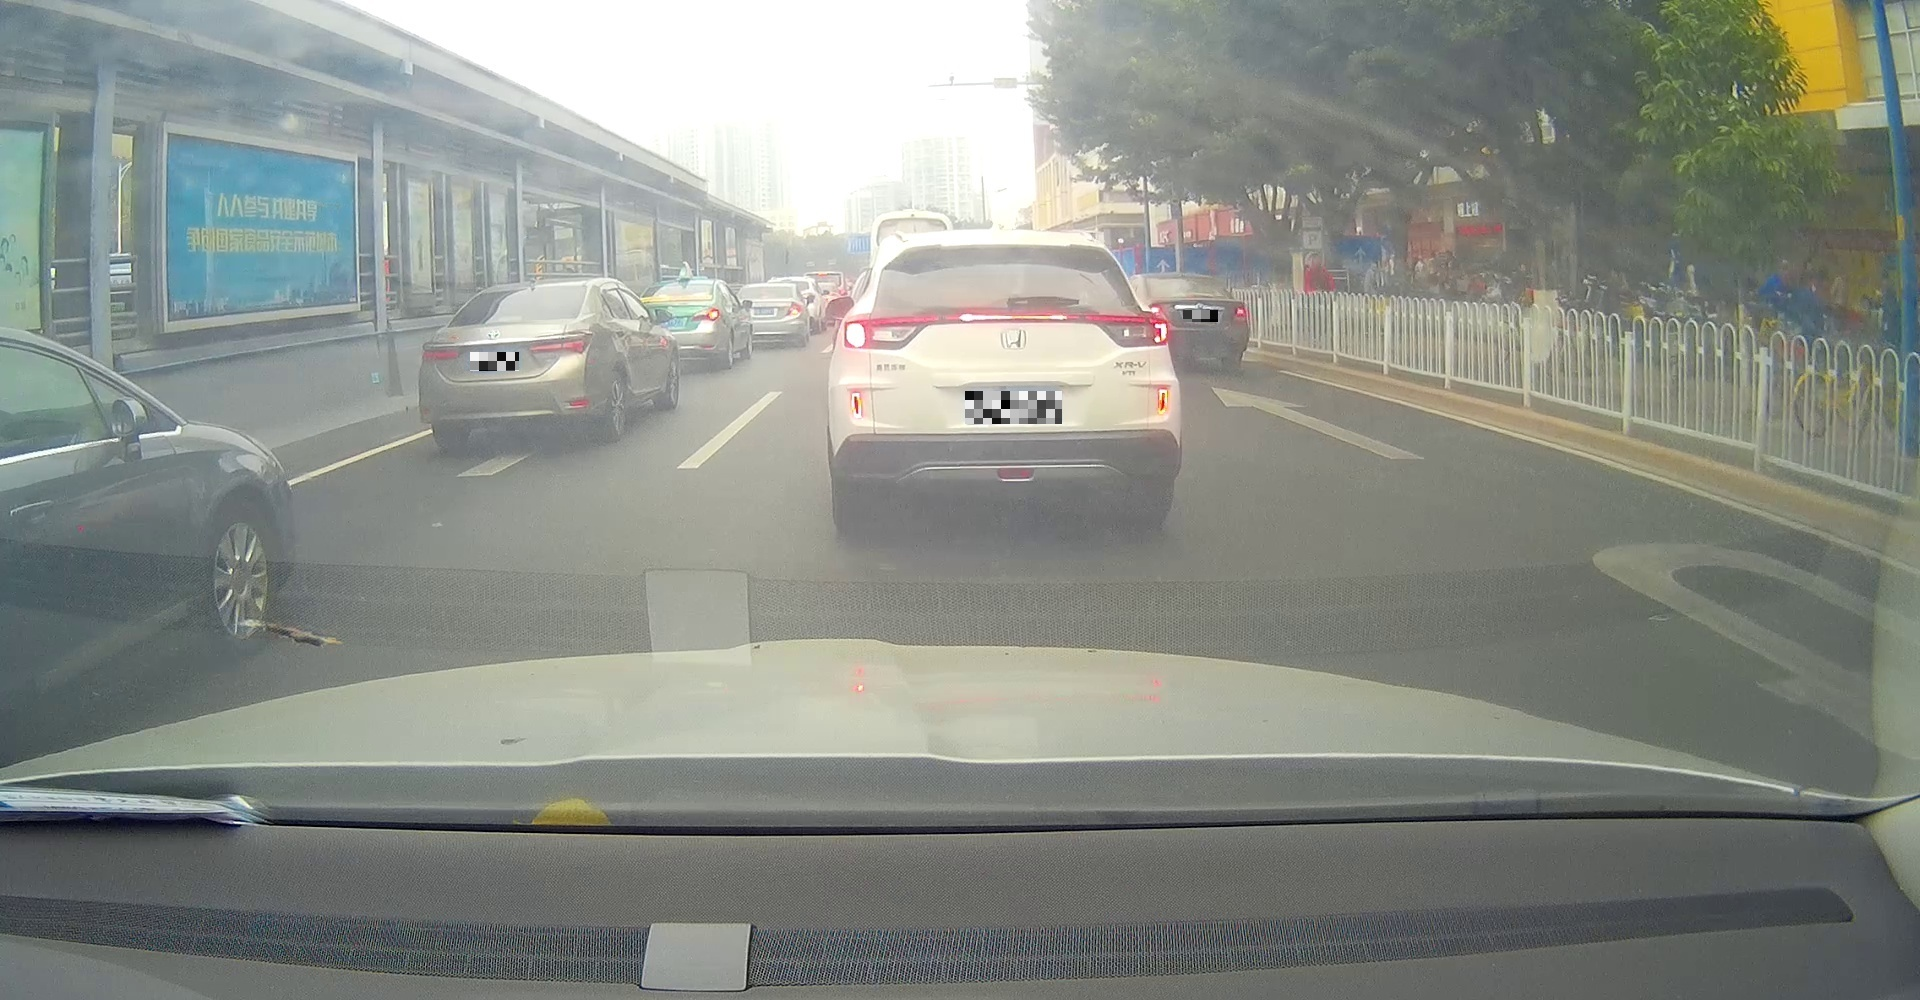L_light: (843, 315, 928, 350), (422, 343, 463, 359)
R_light: (1098, 312, 1170, 348), (530, 332, 590, 353)
T_light: (961, 312, 1067, 321), (498, 316, 521, 322)
day-brake: (828, 230, 1180, 525)
day-no: (419, 277, 594, 451)
plate_1: (470, 352, 519, 371)
plate_2: (965, 391, 1062, 424)
plate_3: (1183, 310, 1218, 322)
